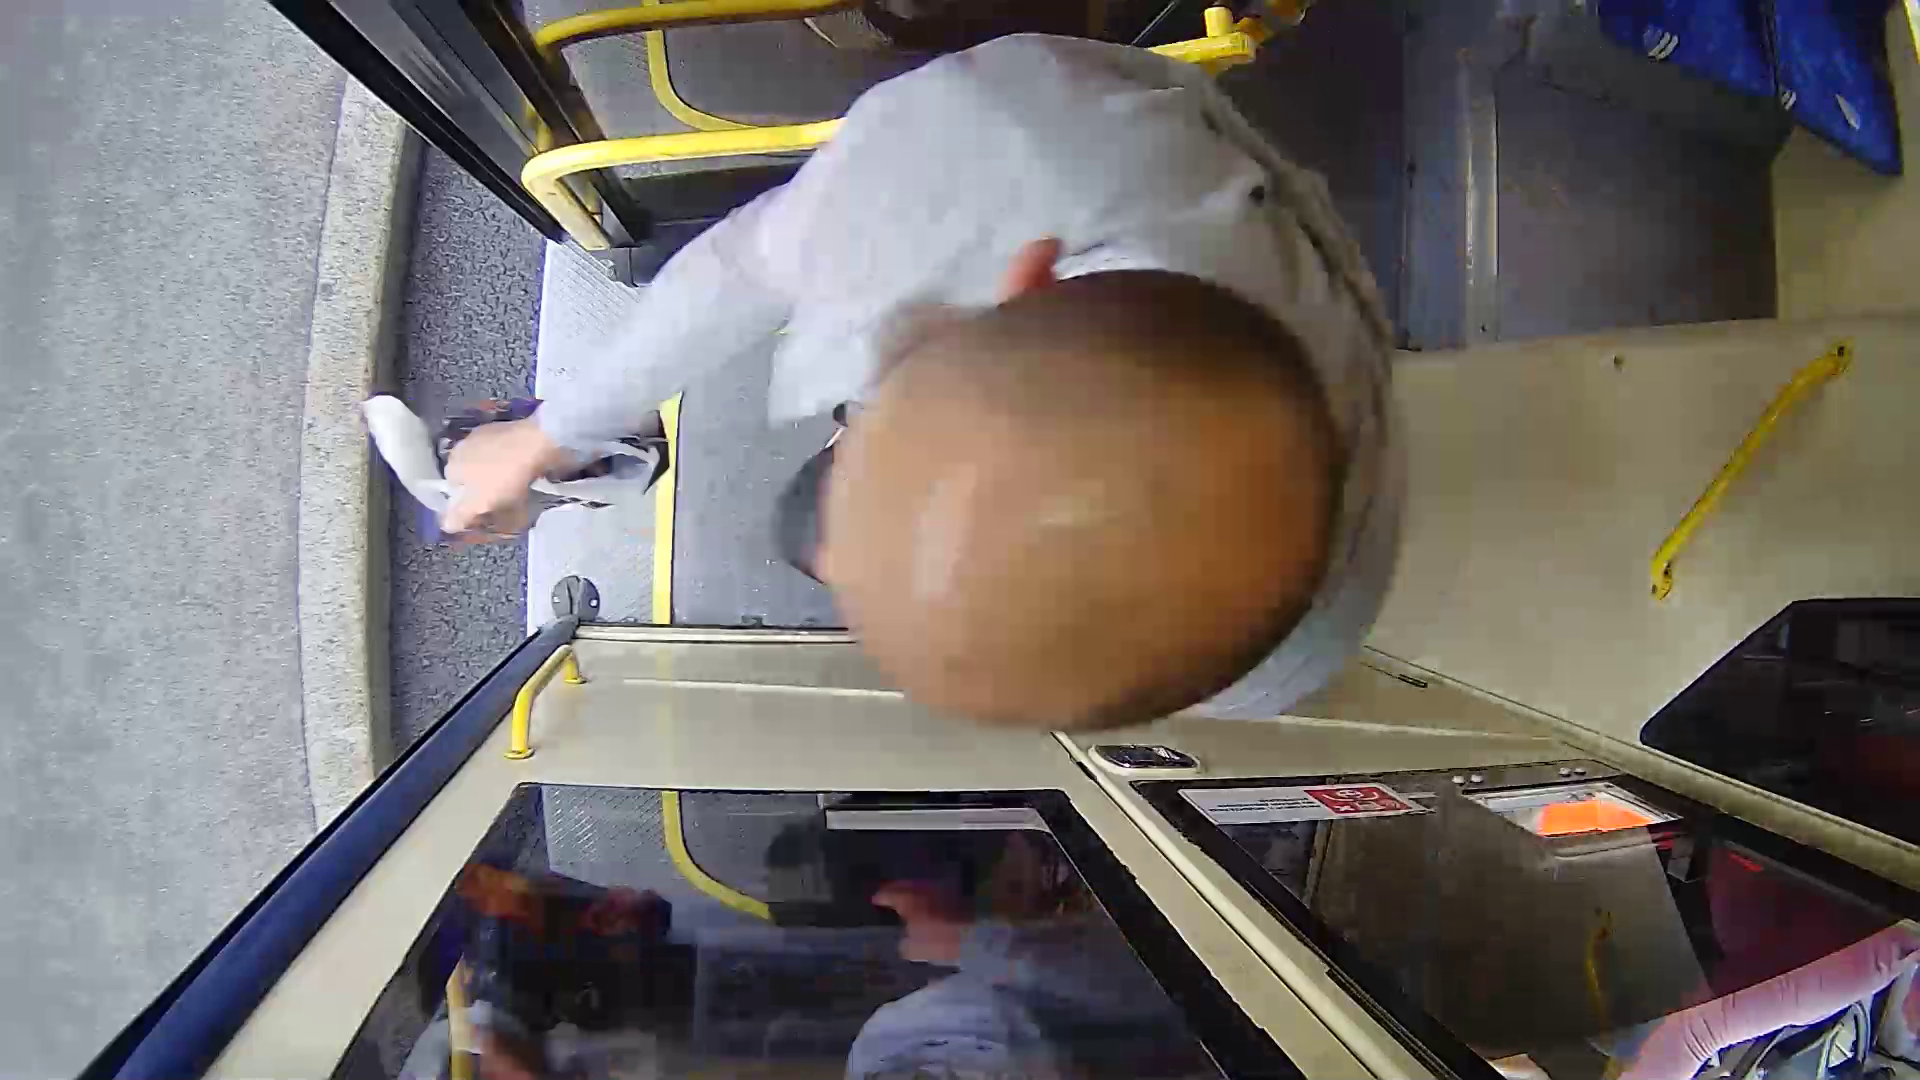person: (538, 41, 1427, 744)
